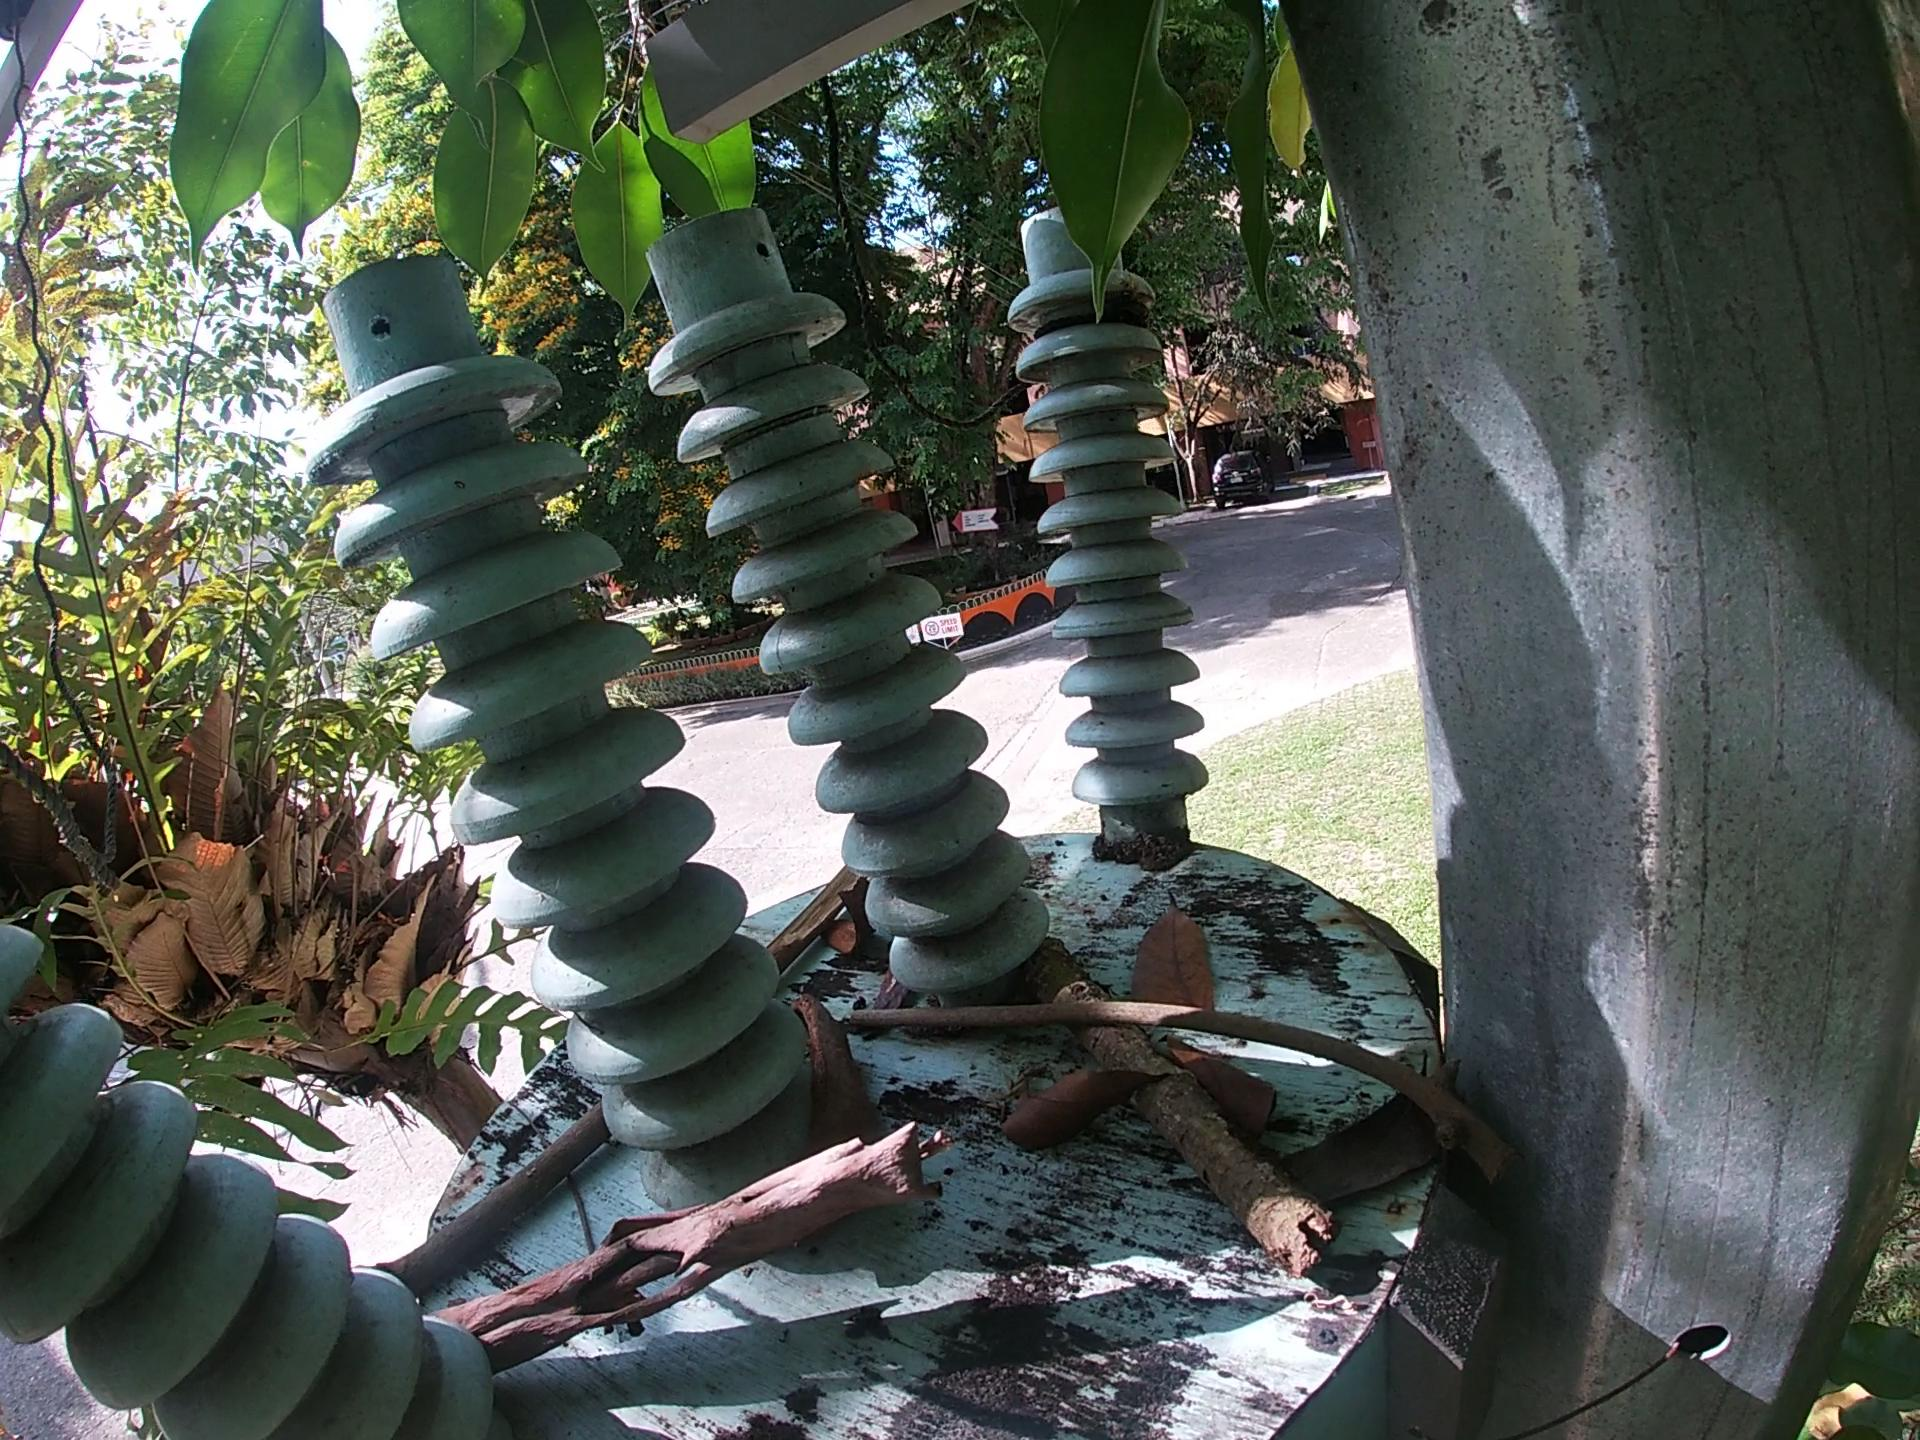leaf: (1274, 1053, 1468, 1210), (993, 1065, 1172, 1165), (1160, 1026, 1287, 1153), (1125, 886, 1234, 1013)
mahogany fruit: (783, 988, 866, 1162), (816, 876, 878, 961)
tree branch: (425, 1107, 957, 1373), (845, 989, 1528, 1192), (1027, 936, 1339, 1286), (361, 1106, 621, 1305), (763, 861, 863, 982)
